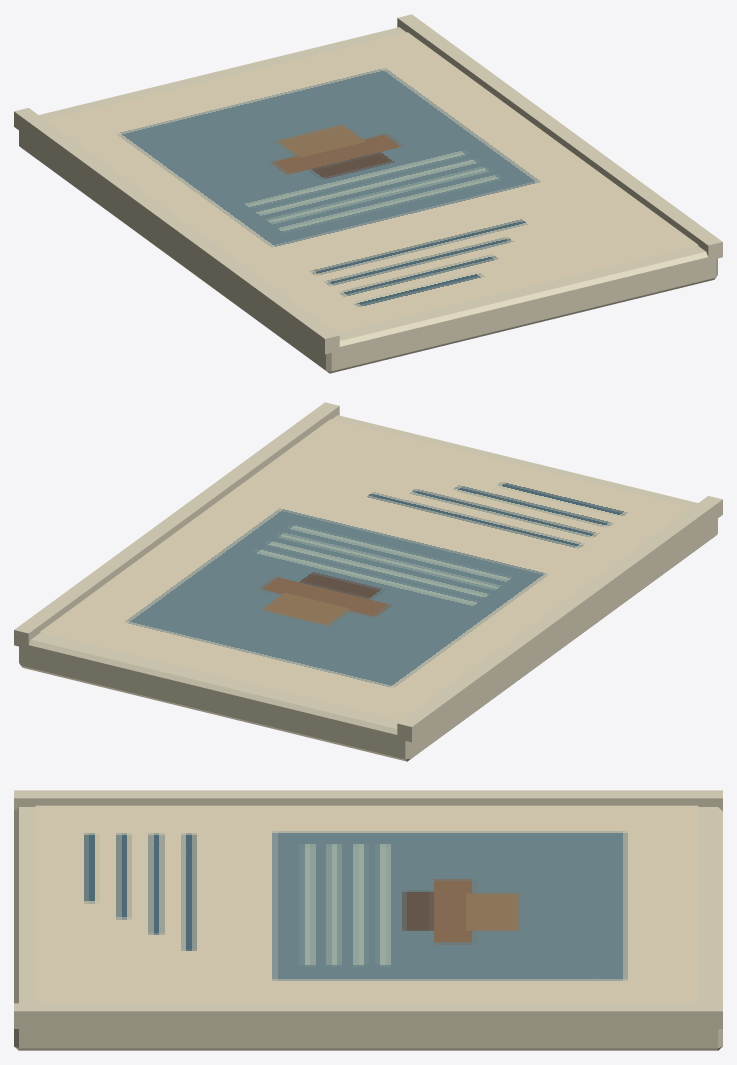
Rendered from godco_flier.glb.
The picture shows the model from 3 angles, top to bottom: view 1: azimuth 30°, elevation 25°; view 2: azimuth 150°, elevation 25°; view 3: azimuth 270°, elevation 25°; orthographic projection. The views are drawn at different scales.
Visible parts, largest first — view 1: block_printed face, block_paper or card stock, block_folded paper edge (×2); view 2: block_printed face, block_paper or card stock, block_folded paper edge (×2); view 3: block_printed face, block_folded paper edge (×2), block_paper or card stock.
Part boxes in pixels (<box>): block_printed face: <box>46,32,698,333</box>; block_paper or card stock: <box>19,27,717,373</box>; block_folded paper edge (×2): <box>14,14,722,354</box>; block_printed face: <box>40,419,691,720</box>; block_paper or card stock: <box>19,415,717,761</box>; block_folded paper edge (×2): <box>14,402,722,742</box>; block_printed face: <box>35,805,698,1003</box>; block_folded paper edge (×2): <box>14,790,722,1028</box>; block_paper or card stock: <box>14,807,722,1050</box>.
Bounding box in the file's own units: 0.1814 × 0.0165 × 0.2457.
1 material, 1 textured.
